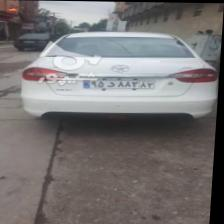plate: (83, 79, 157, 88)
